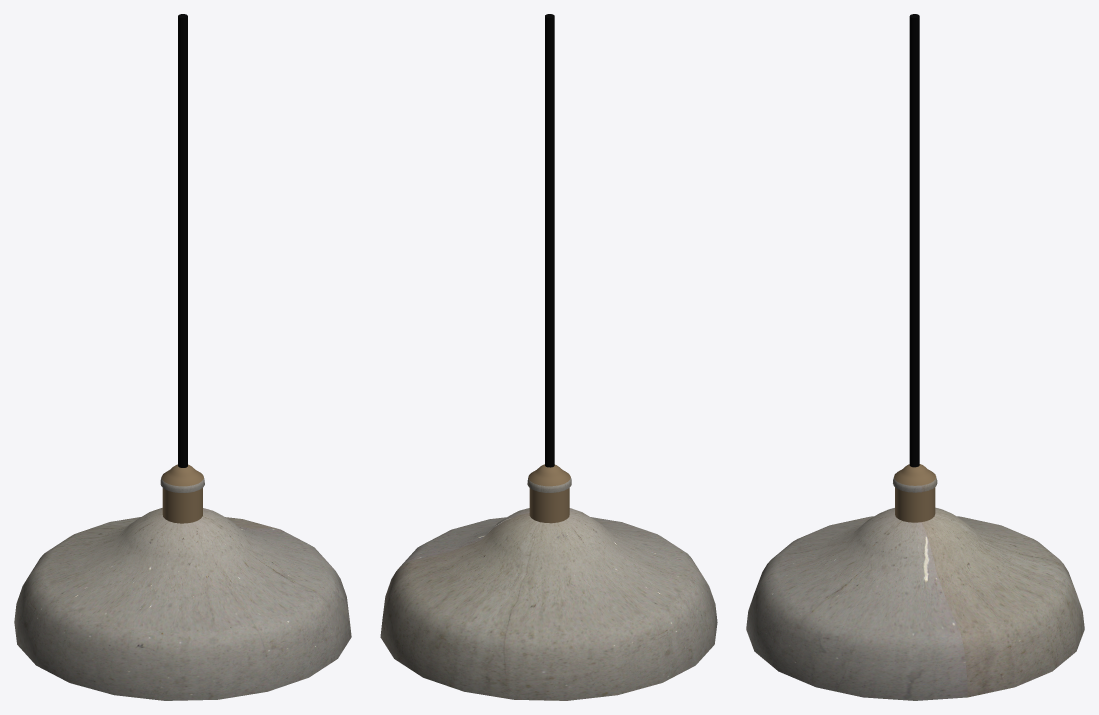
Rendered from Hanging_Light_Texdured.fbx.
The picture shows the model from 3 angles, left to right: view 1: azimuth 30°, elevation 25°; view 2: azimuth 150°, elevation 25°; view 3: azimuth 270°, elevation 25°; orthographic projection.
Parts seen in each view (by area): view 1: pSphere1, pCylinder2, pCylinder1, pSphere2; view 2: pSphere1, pCylinder2, pCylinder1, pSphere2; view 3: pSphere1, pCylinder2, pCylinder1, pSphere2.
Part boxes in pixels (left/top/right/bottom): pSphere1: left=14, top=508, right=351, bottom=700; pCylinder2: left=178, top=14, right=187, bottom=467; pCylinder1: left=162, top=488, right=202, bottom=523; pSphere2: left=160, top=464, right=204, bottom=492; pSphere1: left=380, top=508, right=717, bottom=700; pCylinder2: left=545, top=14, right=554, bottom=467; pCylinder1: left=529, top=488, right=569, bottom=523; pSphere2: left=527, top=464, right=571, bottom=492; pSphere1: left=746, top=507, right=1084, bottom=700; pCylinder2: left=909, top=14, right=919, bottom=467; pCylinder1: left=895, top=487, right=935, bottom=522; pSphere2: left=893, top=464, right=937, bottom=492.
Bounding box in the file's own units: 1.06 × 2.11 × 1.06.
4 materials, 1 textured.
